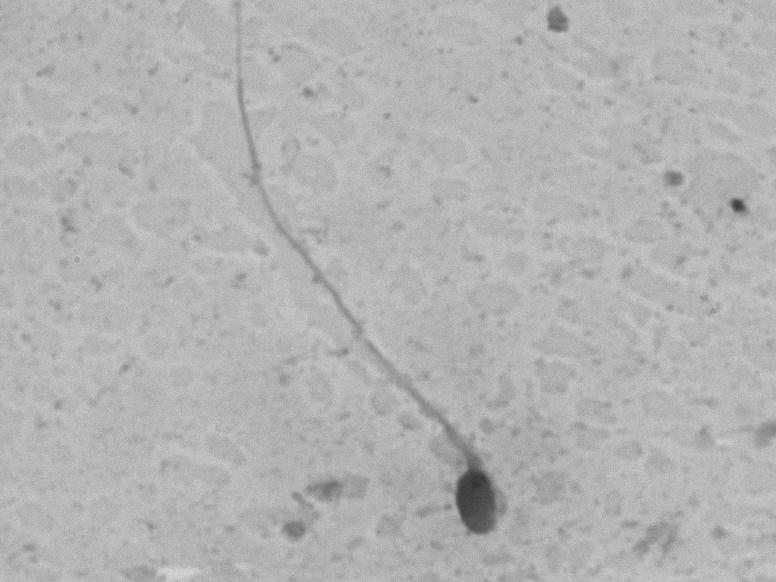Abnormal: (177, 34, 538, 562)
